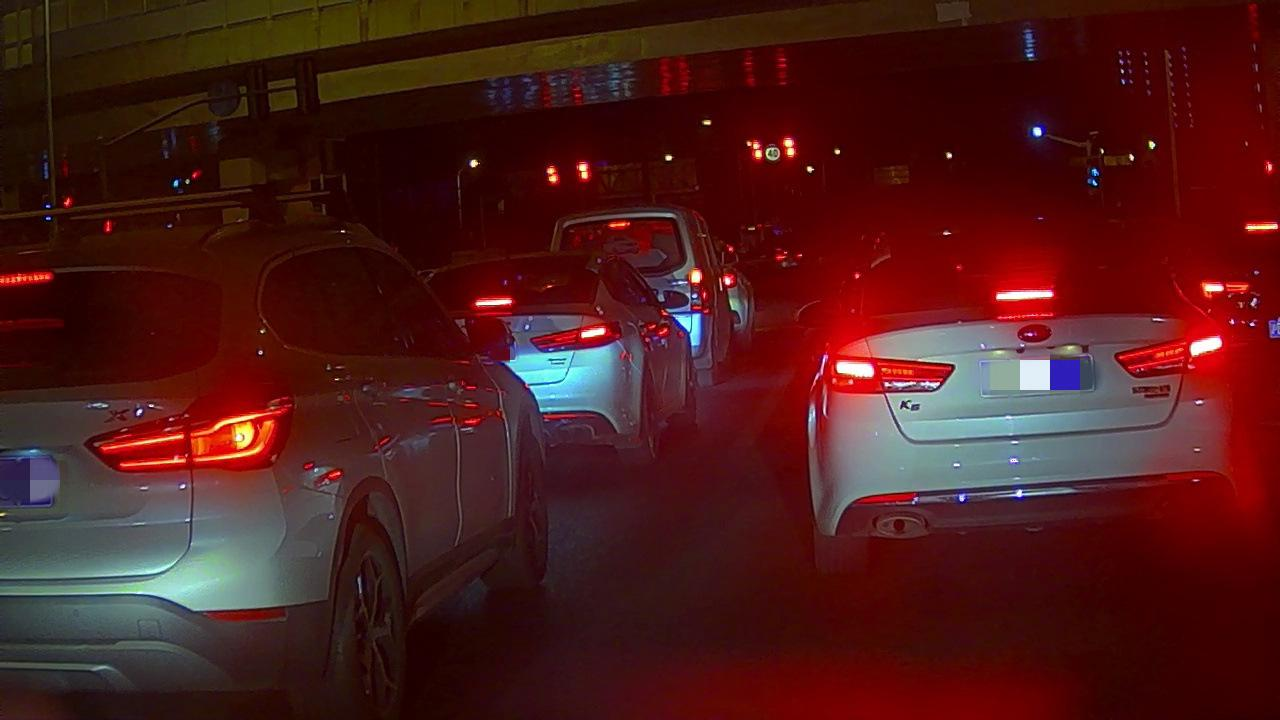traffic_light: (780, 134, 798, 164), (574, 159, 593, 187), (749, 137, 765, 165), (545, 163, 560, 191)
